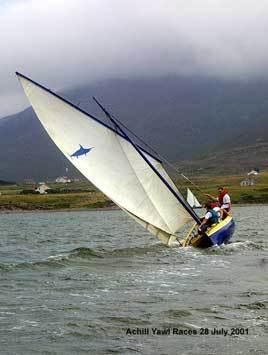Ship: (15, 71, 236, 253)
